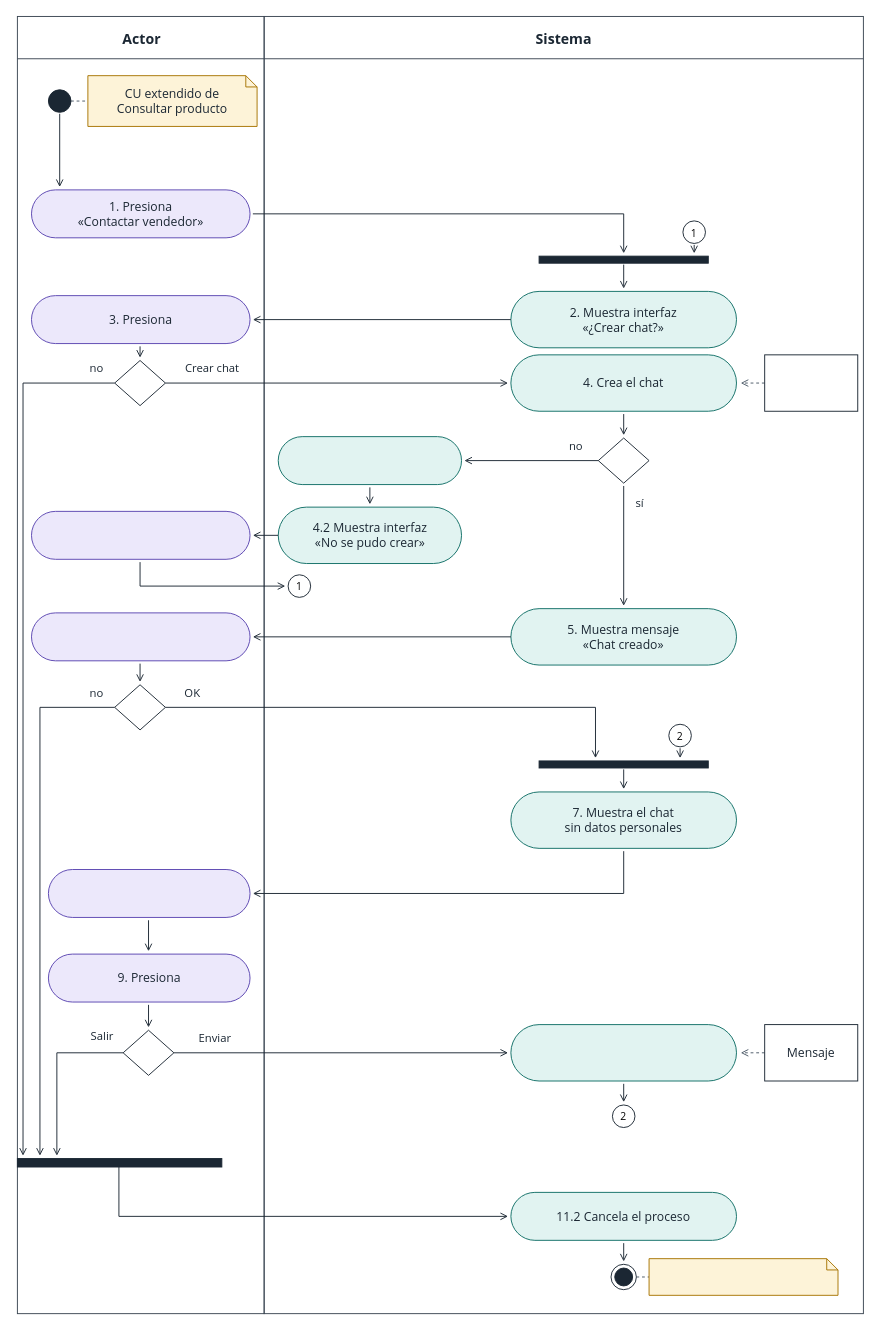
The diagram is 881 pixels wide and 1330 high, and some of its shapes have lost their labels. Each missing label, with the box of its shape:
10. Muestra mensaje actualizado: (510, 1024, 736, 1081)
4.1 No se creó: (277, 436, 462, 485)
4.3 Confirma lectura: (31, 510, 250, 559)
6. Presiona: (31, 612, 250, 661)
8. Escribe el mensaje: (47, 869, 250, 917)
datos del producto: (764, 354, 858, 411)
Regresa a Consultar: (648, 1258, 838, 1295)
